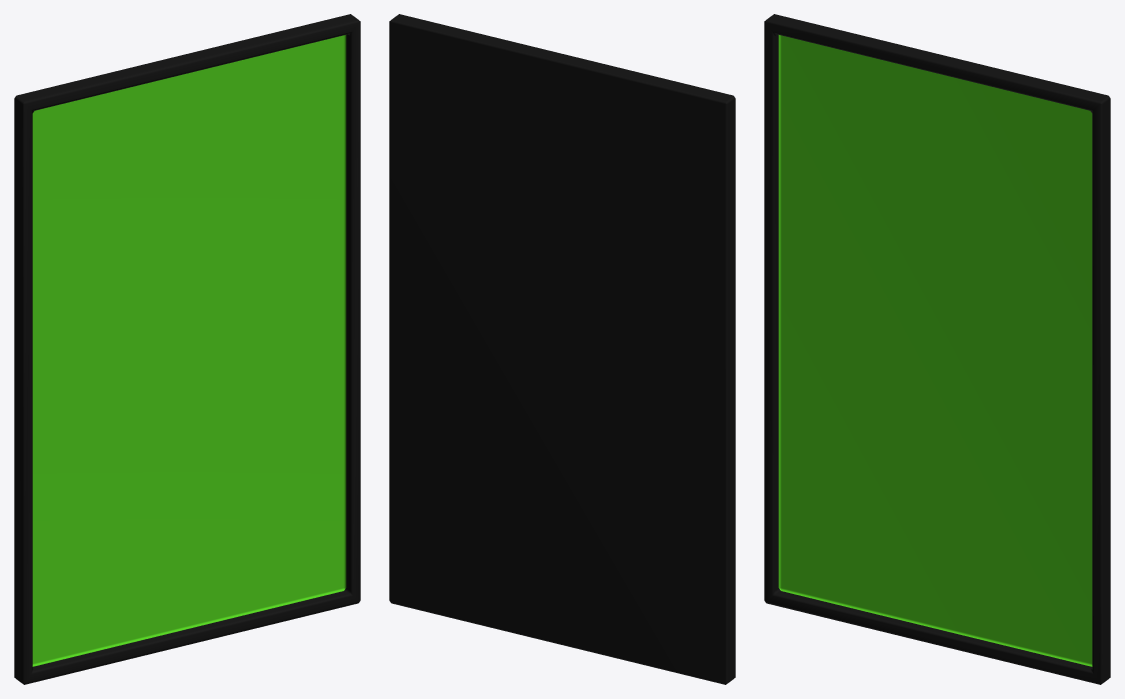
File: SeanElstonFrame_003Unwrapped.fbx
The picture shows the model from 3 angles, left to right: view 1: azimuth 30°, elevation 25°; view 2: azimuth 150°, elevation 25°; view 3: azimuth 330°, elevation 25°; orthographic projection.
Parts seen in each view (by area): view 1: Frame_003; view 2: Frame_003; view 3: Frame_003.
Part boxes in pixels (<box>): Frame_003: <box>14,14,360,684</box>; Frame_003: <box>389,14,735,684</box>; Frame_003: <box>764,14,1110,684</box>.
Size of the model in its own units: 38.21 by 62.92 by 1.8.
